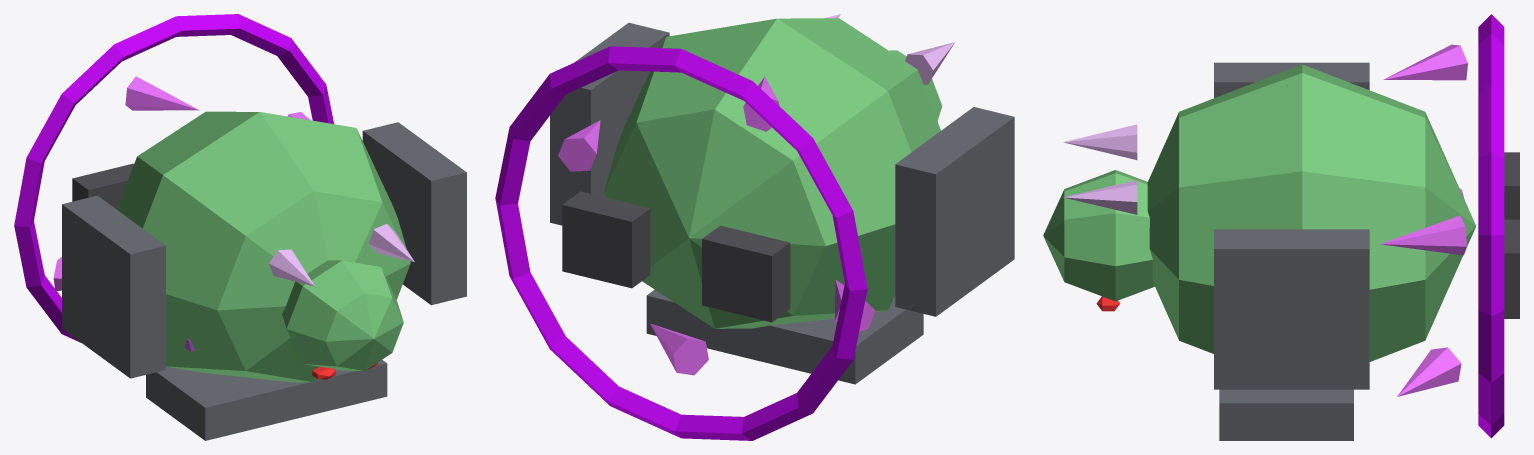
File: TD_Enemy_Tank_Chaos.fbx
3 views of the same model, side by side, from view 1: azimuth 30°, elevation 25°; view 2: azimuth 150°, elevation 25°; view 3: azimuth 270°, elevation 25° (orthographic). The views are drawn at different scales.
Parts seen in each view (by area): view 1: TD_Enemy_Tank_Chaos_Body, TD_Enemy_Tank_Chaos_ArmorPlate_Left, TD_Enemy_Tank_Chaos_ArmorPlate_Right, TD_Enemy_Tank_Chaos_ChaosAura_Ring, TD_Enemy_Tank_Chaos_ArmorPlate_Front, TD_Enemy_Tank_Chaos_Head, TD_Enemy_Tank_Chaos_Foot_Left, TD_Enemy_Tank_Chaos_ChaosFlameWisp_02, TD_Enemy_Tank_Chaos_ChaosEnergySpike_01, TD_Enemy_Tank_Chaos_ChaosEnergySpike_02; view 2: TD_Enemy_Tank_Chaos_Body, TD_Enemy_Tank_Chaos_ChaosAura_Ring, TD_Enemy_Tank_Chaos_ArmorPlate_Left, TD_Enemy_Tank_Chaos_ArmorPlate_Front, TD_Enemy_Tank_Chaos_ArmorPlate_Right, TD_Enemy_Tank_Chaos_Foot_Left, TD_Enemy_Tank_Chaos_Foot_Right, TD_Enemy_Tank_Chaos_ChaosFlameWisp_04, TD_Enemy_Tank_Chaos_ChaosFlameWisp_01, TD_Enemy_Tank_Chaos_ChaosEnergySpike_01, TD_Enemy_Tank_Chaos_ChaosFlameWisp_02, TD_Enemy_Tank_Chaos_ChaosFlameWisp_03; view 3: TD_Enemy_Tank_Chaos_Body, TD_Enemy_Tank_Chaos_ArmorPlate_Right, TD_Enemy_Tank_Chaos_ChaosAura_Ring, TD_Enemy_Tank_Chaos_Head, TD_Enemy_Tank_Chaos_ArmorPlate_Front, TD_Enemy_Tank_Chaos_ArmorPlate_Left, TD_Enemy_Tank_Chaos_ChaosFlameWisp_01, TD_Enemy_Tank_Chaos_ChaosFlameWisp_02, TD_Enemy_Tank_Chaos_ChaosFlameWisp_04, TD_Enemy_Tank_Chaos_Foot_Right, TD_Enemy_Tank_Chaos_ChaosEnergySpike_01, TD_Enemy_Tank_Chaos_ChaosEnergySpike_02 (+1 smaller).
Part boxes in pixels (box(x1,y1,x2,y2)): TD_Enemy_Tank_Chaos_Body: box(117, 111, 410, 382); TD_Enemy_Tank_Chaos_ArmorPlate_Left: box(62, 195, 165, 378); TD_Enemy_Tank_Chaos_ArmorPlate_Right: box(362, 122, 466, 305); TD_Enemy_Tank_Chaos_ChaosAura_Ring: box(14, 14, 333, 342); TD_Enemy_Tank_Chaos_ArmorPlate_Front: box(146, 360, 387, 440); TD_Enemy_Tank_Chaos_Head: box(282, 260, 403, 370); TD_Enemy_Tank_Chaos_Foot_Left: box(72, 163, 133, 209); TD_Enemy_Tank_Chaos_ChaosFlameWisp_02: box(125, 76, 198, 110); TD_Enemy_Tank_Chaos_ChaosEnergySpike_01: box(269, 249, 314, 286); TD_Enemy_Tank_Chaos_ChaosEnergySpike_02: box(369, 224, 414, 262); TD_Enemy_Tank_Chaos_Body: box(604, 18, 940, 328); TD_Enemy_Tank_Chaos_ChaosAura_Ring: box(495, 46, 867, 440); TD_Enemy_Tank_Chaos_ArmorPlate_Left: box(895, 107, 1014, 316); TD_Enemy_Tank_Chaos_ArmorPlate_Front: box(646, 289, 923, 384); TD_Enemy_Tank_Chaos_ArmorPlate_Right: box(550, 22, 669, 225); TD_Enemy_Tank_Chaos_Foot_Left: box(702, 225, 790, 322); TD_Enemy_Tank_Chaos_Foot_Right: box(562, 191, 650, 288); TD_Enemy_Tank_Chaos_ChaosFlameWisp_04: box(650, 323, 708, 375); TD_Enemy_Tank_Chaos_ChaosFlameWisp_01: box(558, 120, 600, 171); TD_Enemy_Tank_Chaos_ChaosEnergySpike_01: box(905, 42, 954, 84); TD_Enemy_Tank_Chaos_ChaosFlameWisp_02: box(743, 76, 779, 131); TD_Enemy_Tank_Chaos_ChaosFlameWisp_03: box(835, 280, 875, 331); TD_Enemy_Tank_Chaos_Body: box(1147, 64, 1476, 361); TD_Enemy_Tank_Chaos_ArmorPlate_Right: box(1214, 229, 1369, 389); TD_Enemy_Tank_Chaos_ChaosAura_Ring: box(1478, 14, 1504, 438); TD_Enemy_Tank_Chaos_Head: box(1043, 170, 1154, 301); TD_Enemy_Tank_Chaos_ArmorPlate_Front: box(1219, 389, 1353, 440); TD_Enemy_Tank_Chaos_ArmorPlate_Left: box(1214, 62, 1369, 97); TD_Enemy_Tank_Chaos_ChaosFlameWisp_01: box(1380, 215, 1466, 255); TD_Enemy_Tank_Chaos_ChaosFlameWisp_02: box(1383, 44, 1467, 80); TD_Enemy_Tank_Chaos_ChaosFlameWisp_04: box(1397, 347, 1461, 396); TD_Enemy_Tank_Chaos_Foot_Right: box(1504, 219, 1519, 318); TD_Enemy_Tank_Chaos_ChaosEnergySpike_01: box(1063, 124, 1137, 159); TD_Enemy_Tank_Chaos_ChaosEnergySpike_02: box(1063, 180, 1137, 214).
Size of the model in its own units: 0.85 by 0.82 by 0.92.
